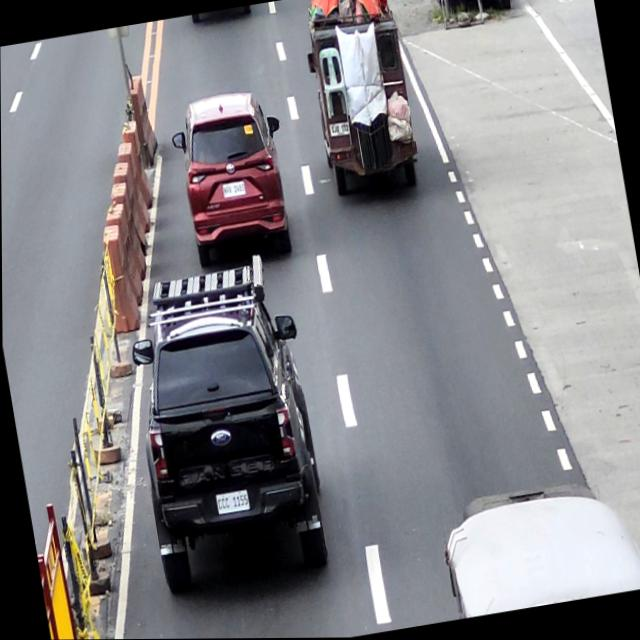Car: (115, 262, 336, 598), (167, 86, 301, 272)
Jeep: (300, 4, 424, 203)
License-Plate: (214, 491, 250, 515), (221, 181, 246, 199), (329, 121, 351, 139)
